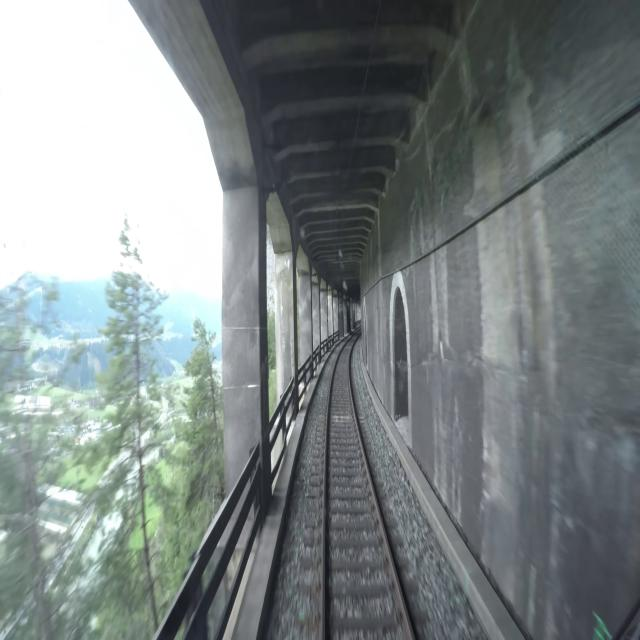rail-track: (326, 335, 410, 639)
